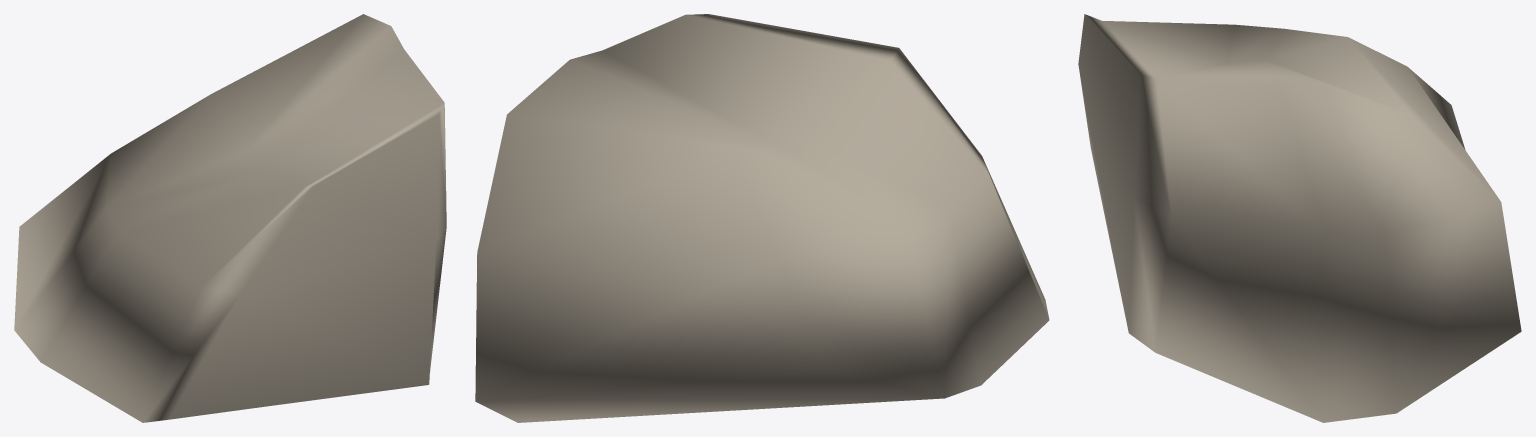
File: rock03_v001.fbx
3 views of the same model, side by side, from view 1: azimuth 30°, elevation 25°; view 2: azimuth 150°, elevation 25°; view 3: azimuth 270°, elevation 25° (orthographic). The views are drawn at different scales.
Visible parts, largest first — view 1: pCube3; view 2: pCube3; view 3: pCube3.
Boxes of the visible parts, x1,y1,x2,y2 form: pCube3: [14, 14, 446, 422]; pCube3: [475, 14, 1049, 422]; pCube3: [1078, 14, 1521, 422].
Bounding box in the file's own units: 118 × 96.36 × 116.
